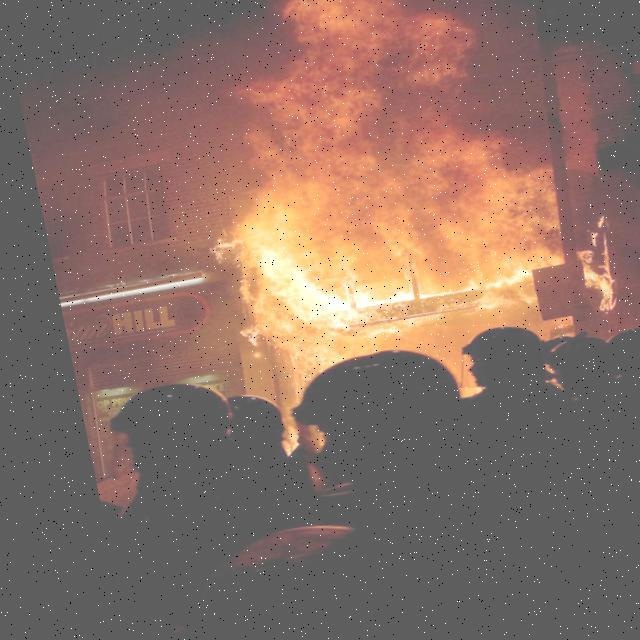Fire: (174, 0, 609, 408)
